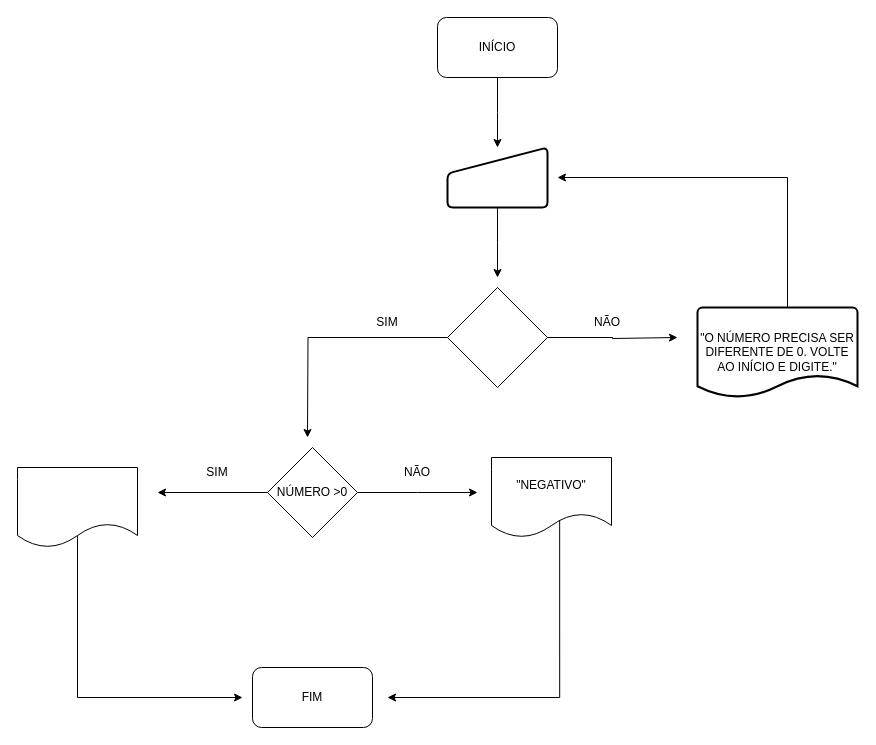
The diagram is 876 pixels wide and 745 high, and some of its shapes have lost their labels. Here are the shapes that lost their labels. From the top down, the box of each, then its label:
(446, 146, 548, 208): NÚMERO
(446, 286, 548, 388): NÚMERO != 0
(16, 466, 138, 548): "POSITIVO"
